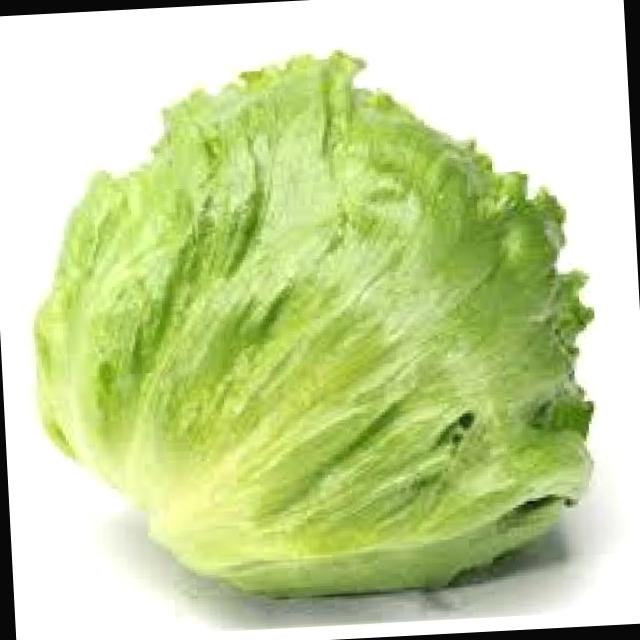Lettuce-Ready-to-Harvest: (35, 52, 593, 595)
